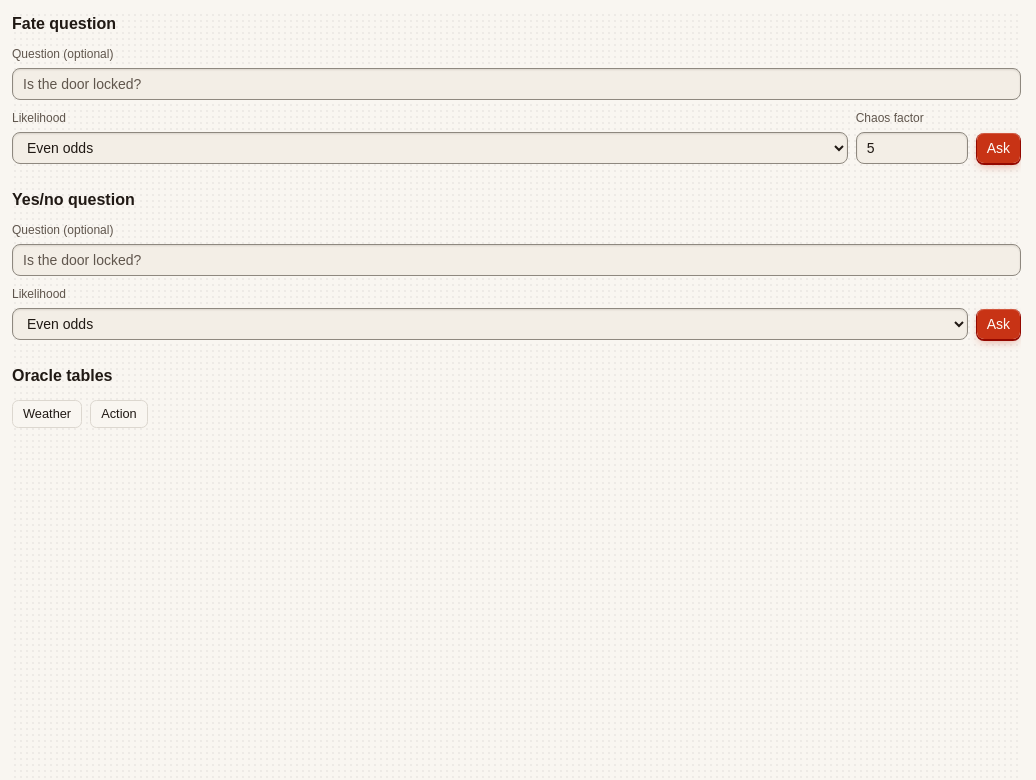
Test: OraclePanel › shows the API's reason when an oracle is refused
This screenshot has width=1036, height=780.
Click the button "Ask" below "Chaos factor". click: (998, 148)
box: top-left (976, 132), bottom-right (1021, 164)
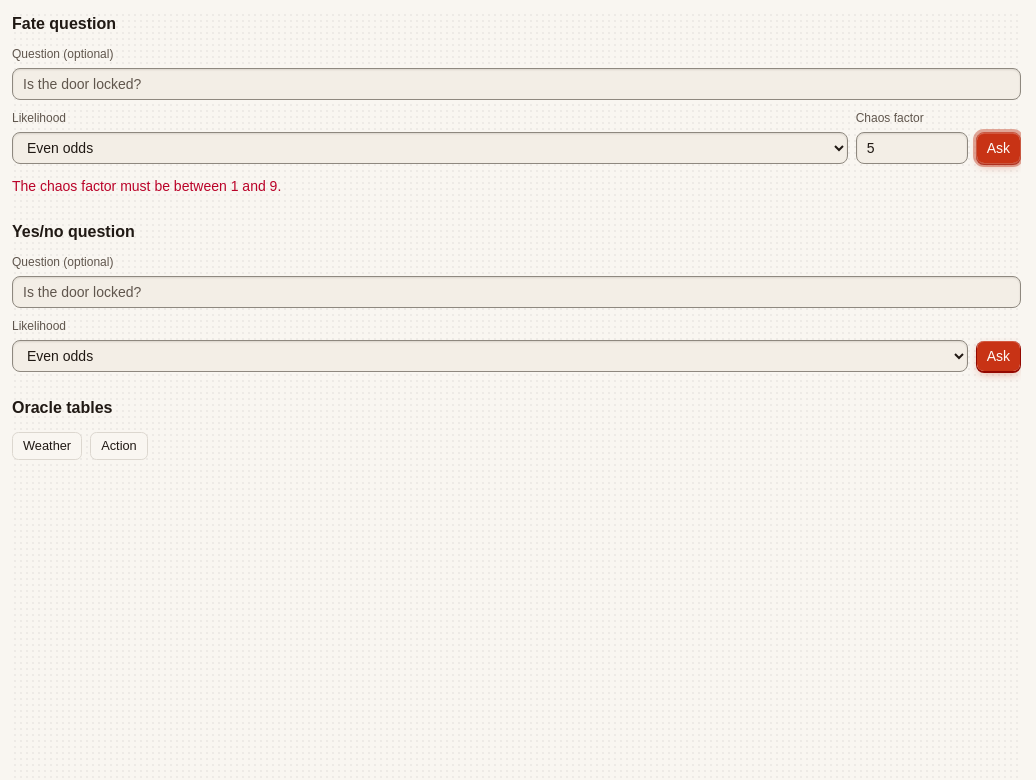
Click the button with aria-label "Roll on Action". click: (119, 446)
box: top-left (90, 432), bottom-right (148, 460)
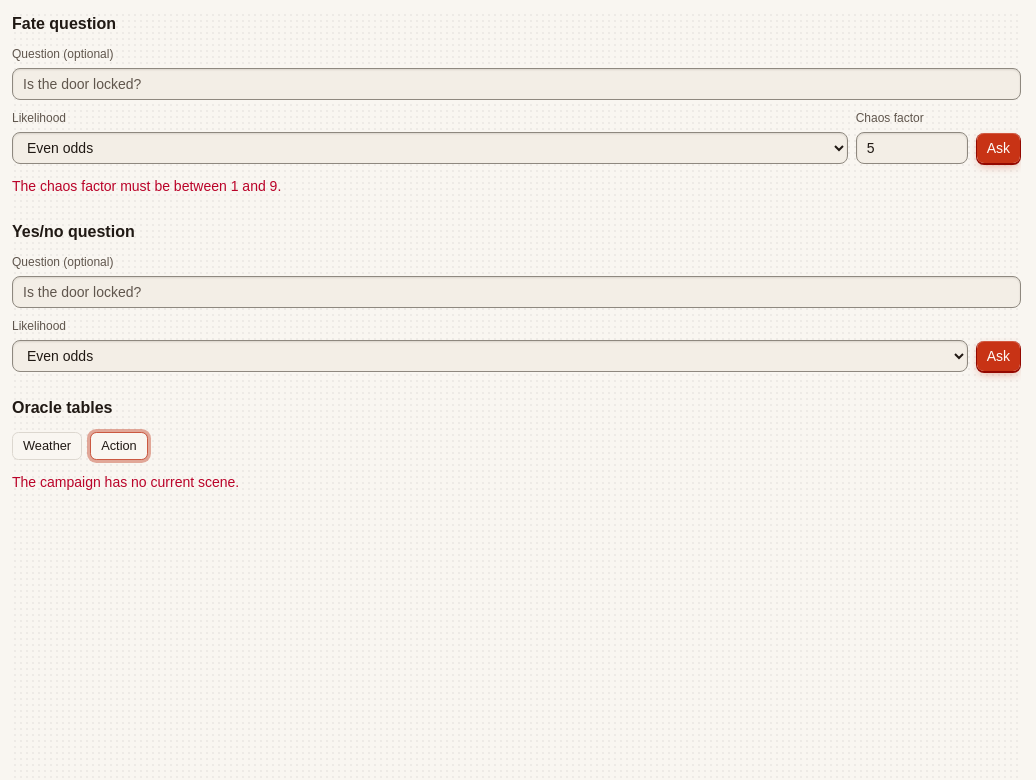
Now the message "The chaos factor must be between 1 and 9." is shown, box top-left (12, 178), bottom-right (281, 194)
Now the text "The campaign has no current scene." is shown, box top-left (12, 474), bottom-right (239, 490)
